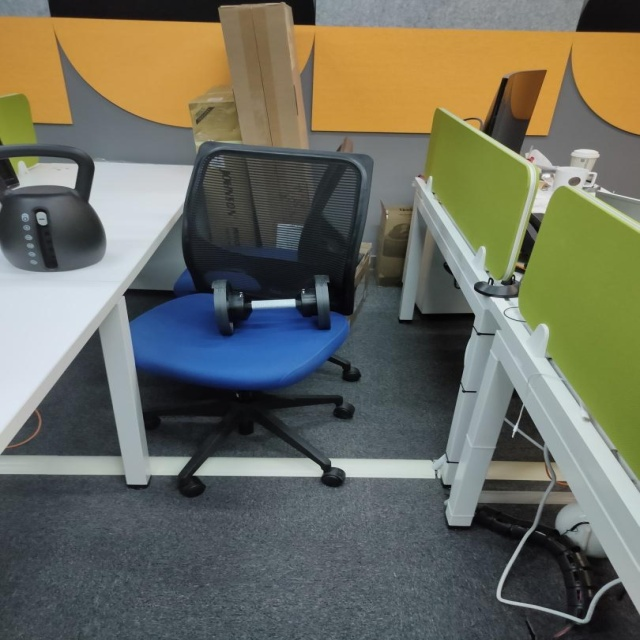03-6kg: (210, 273, 332, 335)
